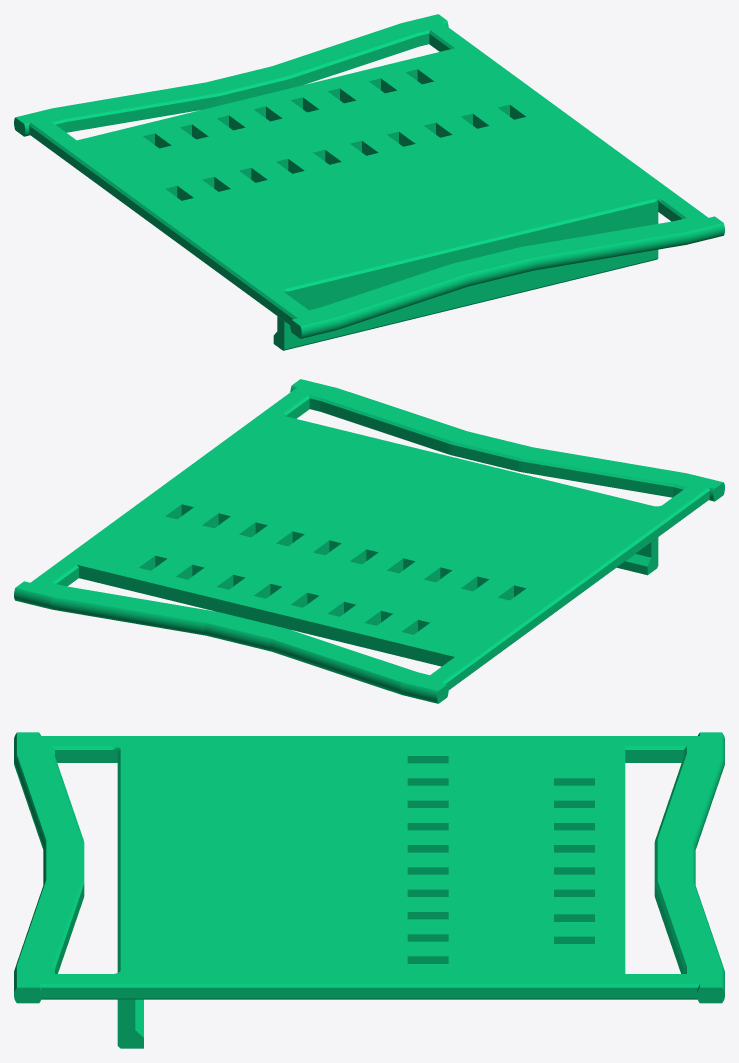
Rendered from wago.glb.
The picture shows the model from 3 angles, top to bottom: view 1: azimuth 30°, elevation 25°; view 2: azimuth 150°, elevation 25°; view 3: azimuth 270°, elevation 25°; orthographic projection. The views are drawn at different scales.
Parts seen in each view (by area): view 1: rail_wago; view 2: rail_wago; view 3: rail_wago.
Boxes of the visible parts, x1,y1,x2,y2 form: rail_wago: [14, 14, 724, 350]; rail_wago: [14, 379, 724, 703]; rail_wago: [14, 732, 724, 1048].
Bounding box in the file's own units: 0.1031 × 0.0143 × 0.1214.
